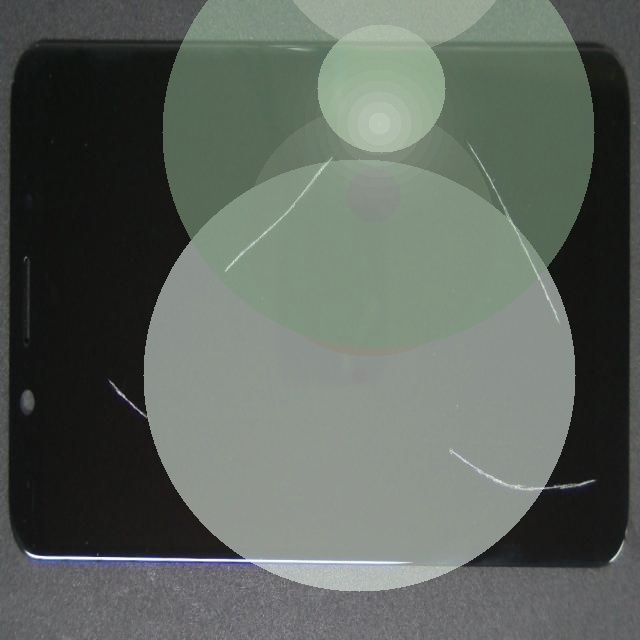scratch: (388, 263, 640, 640), (218, 3, 428, 270)
